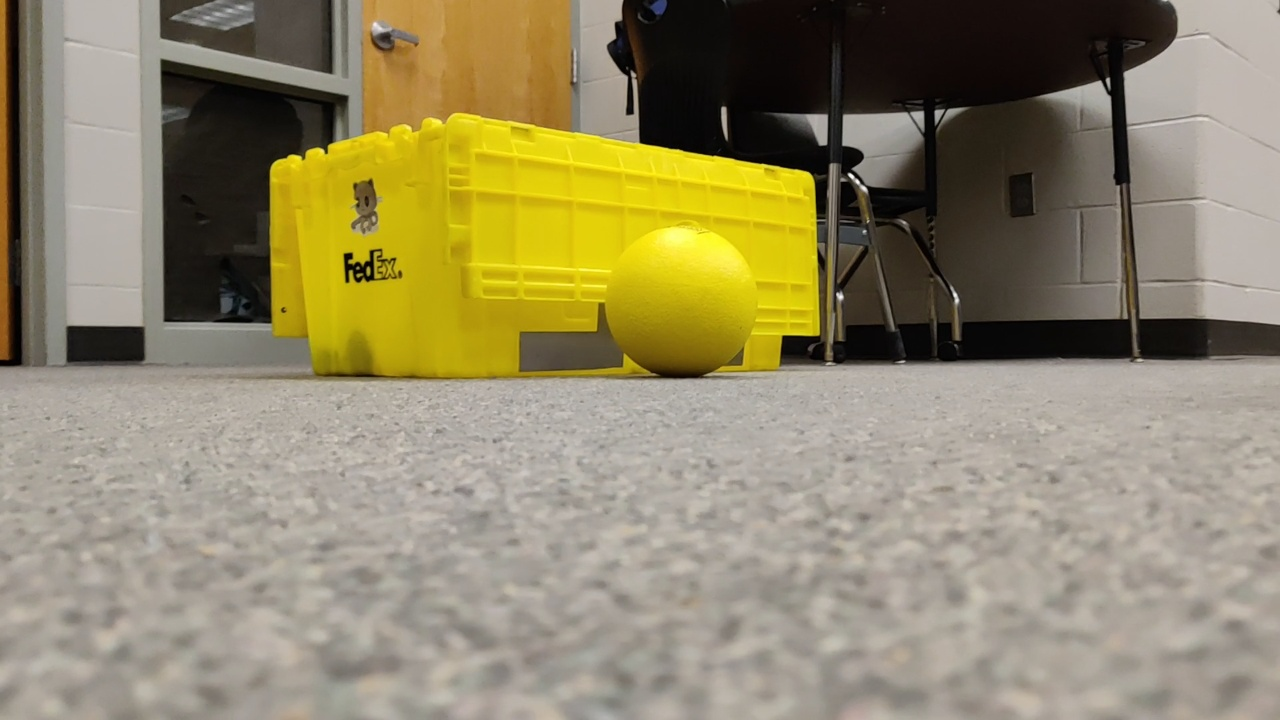Ball: (606, 224, 762, 372)
